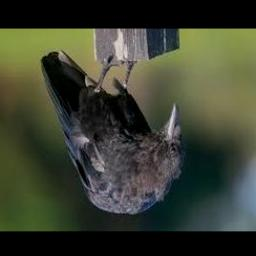Crow: (40, 50, 184, 215)
